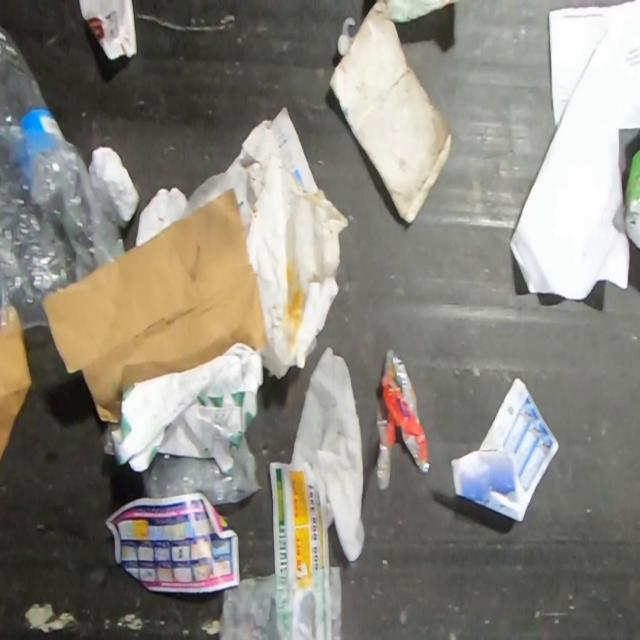cardboard: (42, 188, 269, 424), (328, 0, 456, 225), (0, 330, 33, 463), (622, 145, 640, 249)
rigid_plastic: (0, 25, 65, 139)
soft_plastic: (0, 101, 128, 333), (100, 343, 264, 474), (218, 564, 344, 640), (140, 432, 262, 506), (374, 346, 430, 491), (182, 154, 253, 241), (135, 185, 188, 245)
